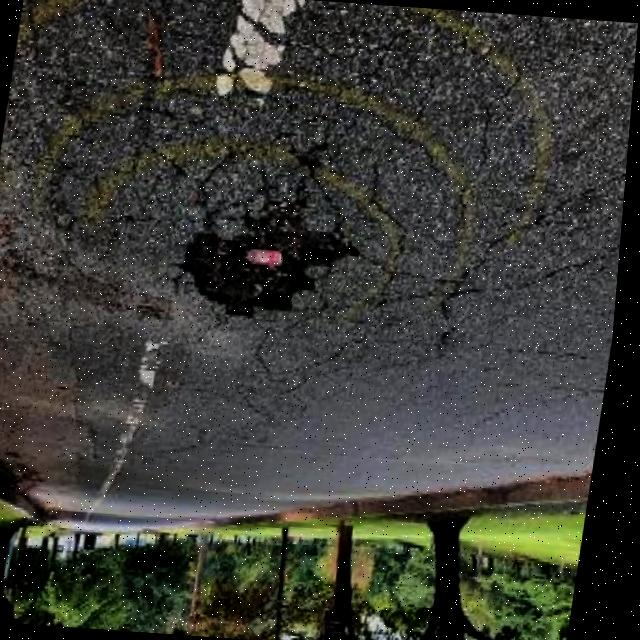Pothole: (168, 208, 366, 329)
